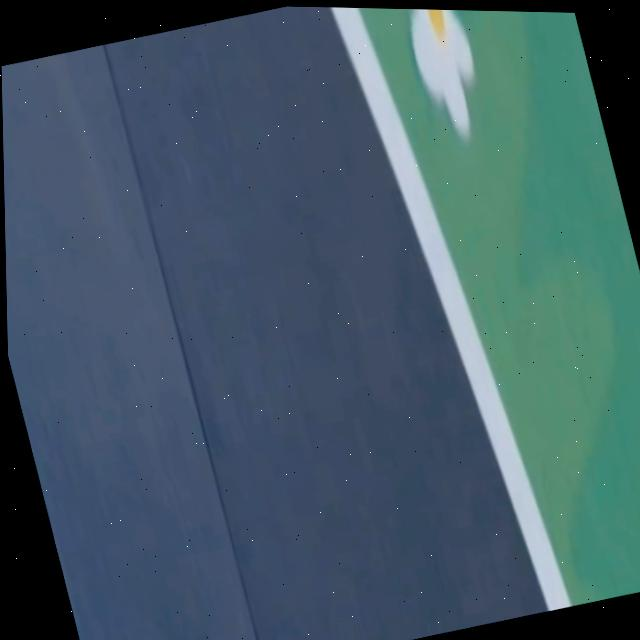right: (329, 7, 571, 611)
